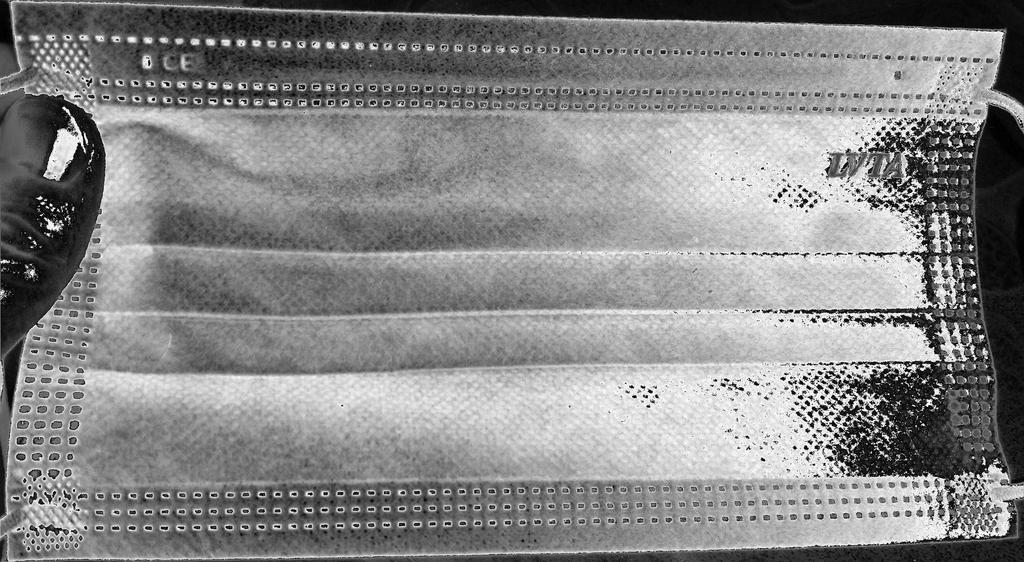High GSM: (101, 103, 1011, 486)
